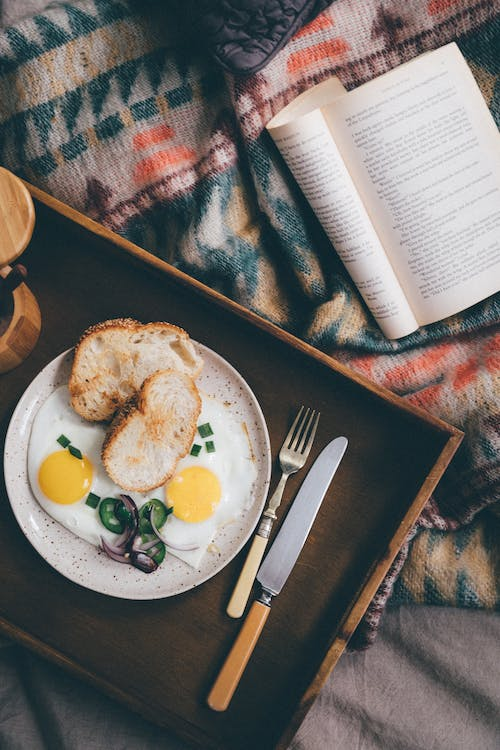knife: (203, 432, 350, 714)
